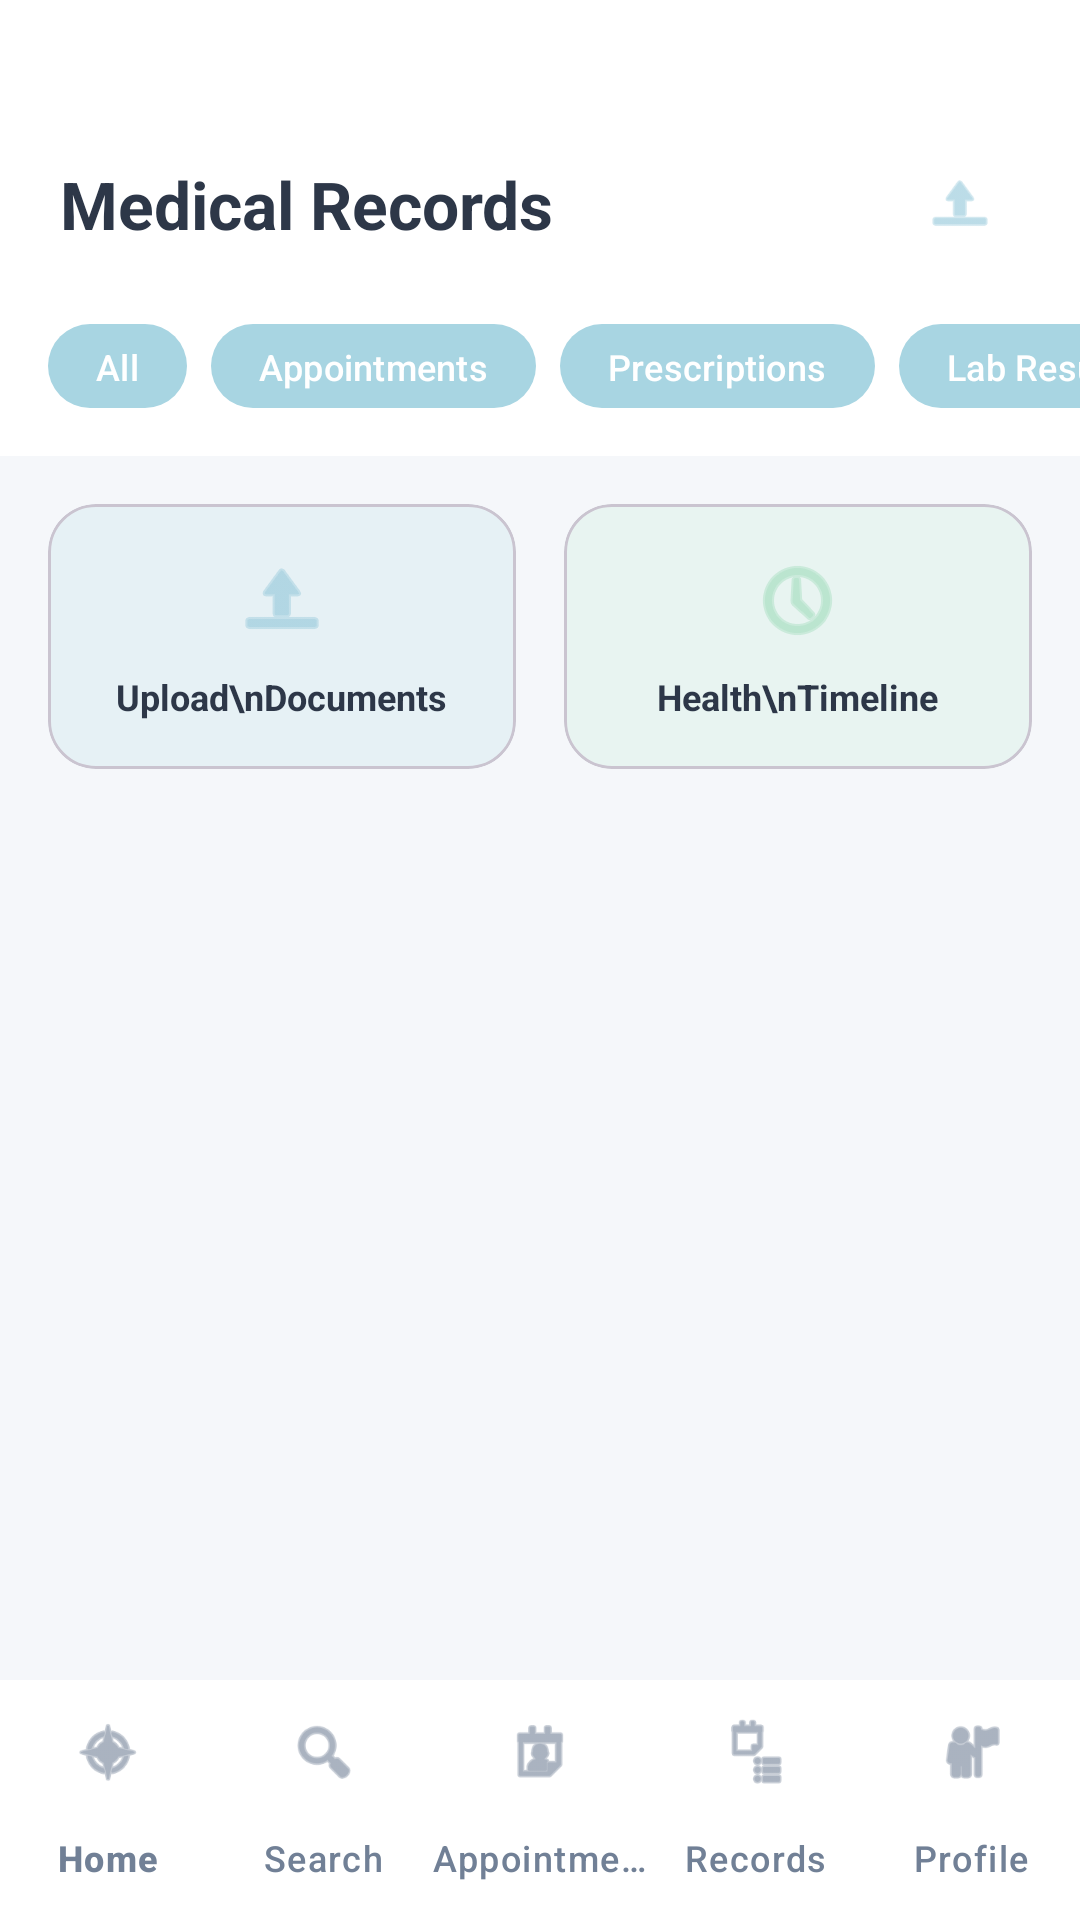

Screen size 1080×1920. Icon name, then its box in pixels as (x1, y1, x2, y2):
recent history: (763, 566, 832, 635)
